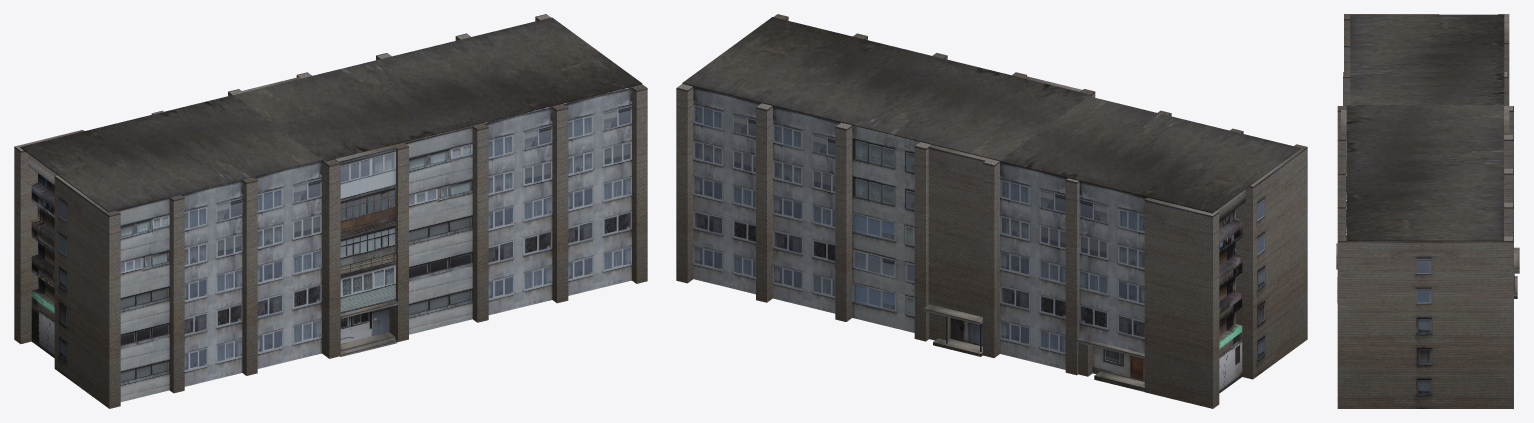
The model's file is myho.FBX.
The picture shows the model from 3 angles, left to right: view 1: azimuth 30°, elevation 25°; view 2: azimuth 150°, elevation 25°; view 3: azimuth 270°, elevation 25°; orthographic projection. The views are drawn at different scales.
Visible parts, largest first — view 1: Box001; view 2: Box001; view 3: Box001.
Boxes of the visible parts, x1,y1,x2,y2 form: Box001: (14, 14, 647, 408); Box001: (676, 14, 1307, 408); Box001: (1336, 14, 1519, 408).
Bounding box in the file's own units: 129 × 45.01 × 44.15.
